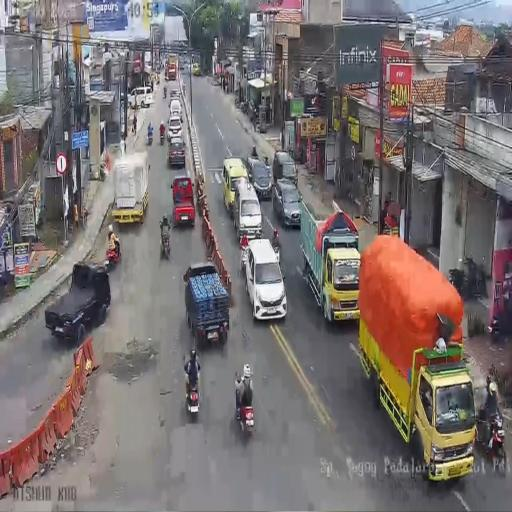3: (355, 236, 470, 481), (300, 201, 358, 323), (112, 152, 150, 225), (167, 54, 178, 80), (144, 50, 151, 72)
car: (44, 260, 110, 343), (183, 264, 230, 350), (242, 239, 286, 322), (222, 156, 249, 215), (273, 178, 301, 228), (172, 175, 196, 227), (246, 155, 272, 200), (129, 85, 153, 108), (168, 138, 186, 167), (167, 116, 183, 142), (169, 98, 182, 119), (192, 62, 200, 76), (212, 74, 221, 86), (180, 58, 186, 72)
truck: (490, 289, 512, 341), (235, 385, 255, 437), (185, 373, 200, 416), (106, 236, 121, 266), (160, 223, 171, 259), (147, 128, 153, 145), (159, 129, 165, 145), (155, 73, 160, 85), (163, 86, 167, 98)
